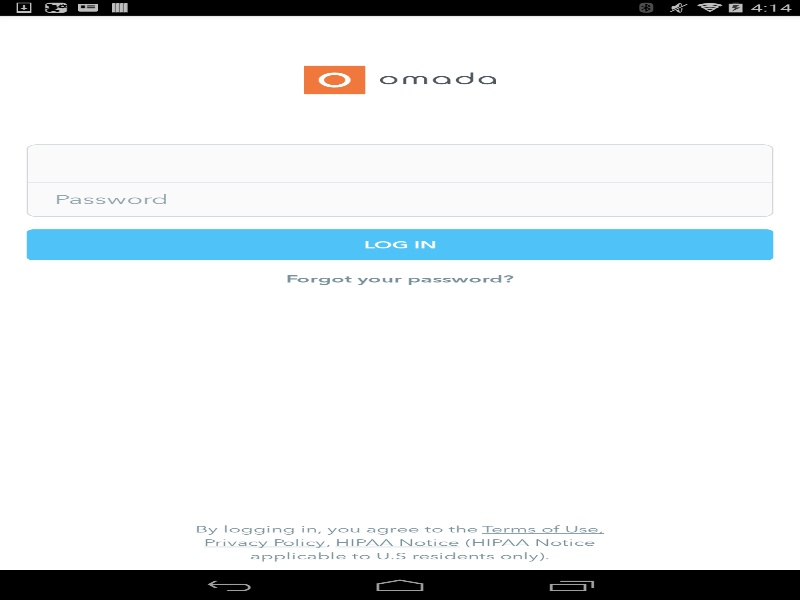Input: (54, 157, 745, 172), (54, 191, 745, 206)
